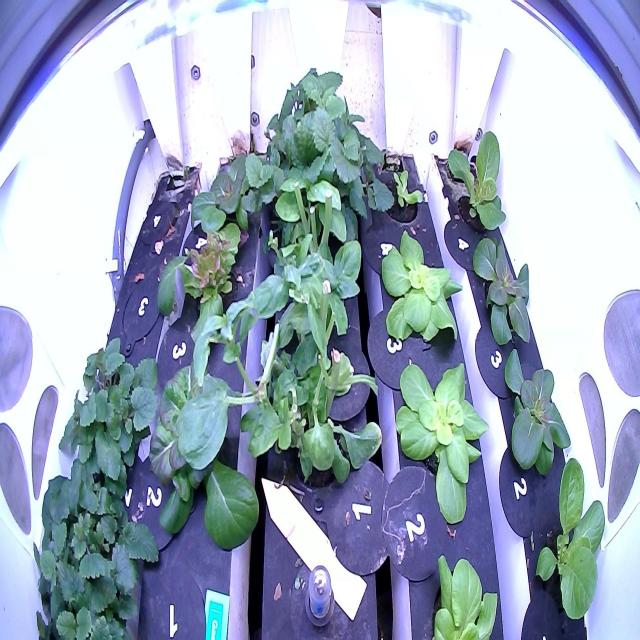empty_pod: (137, 562, 212, 638), (115, 264, 164, 360), (137, 194, 181, 251)
young: (390, 358, 492, 533), (525, 448, 615, 631), (499, 335, 580, 491), (372, 227, 464, 352), (184, 128, 277, 251), (438, 120, 518, 249), (469, 222, 546, 351), (185, 144, 275, 245), (423, 548, 507, 638), (378, 162, 428, 224)
